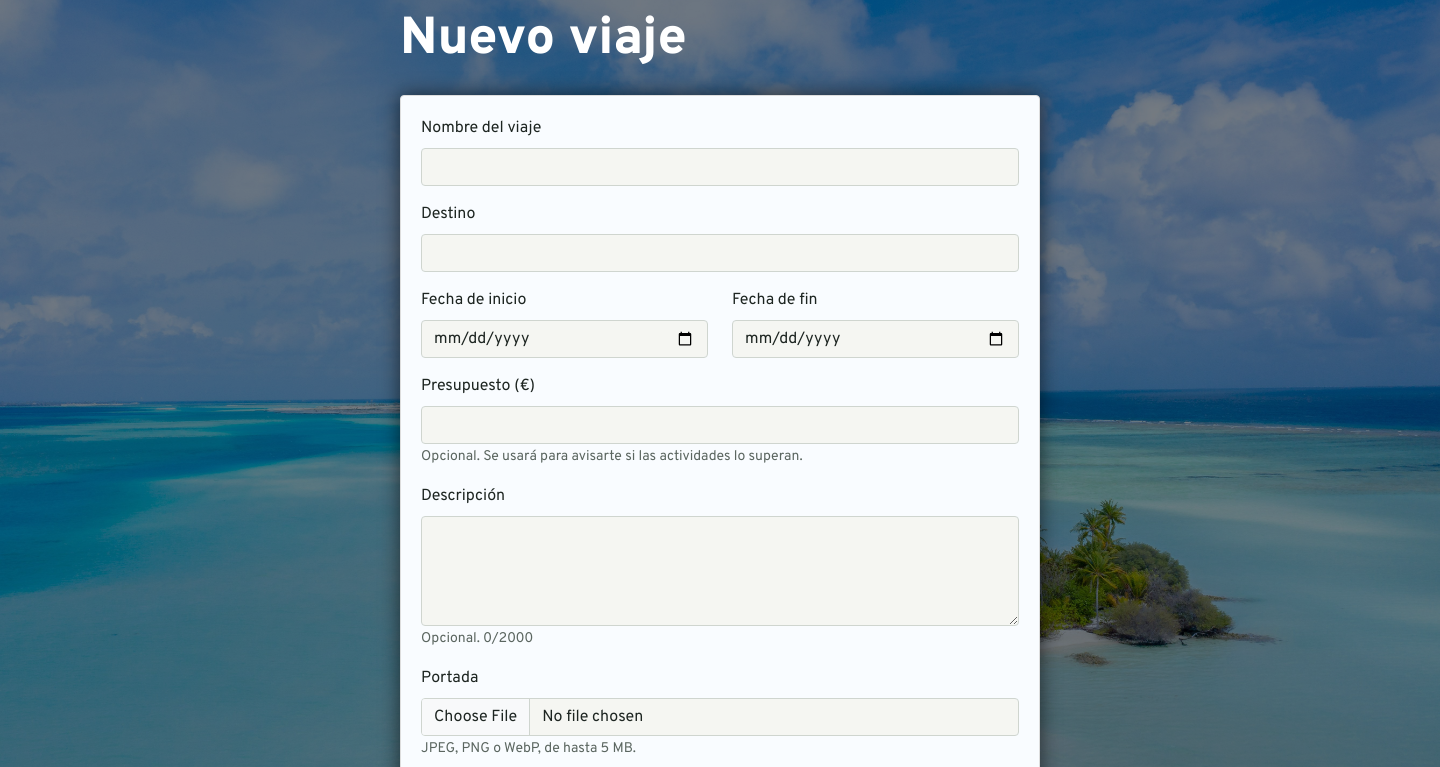
Test: B4 creating a trip › when only the cover fails the trip is kept and its edit page explains it
This screenshot has width=1440, height=767.
In the field labelled "Nombre del viaje": (720, 167) [421,148,1019,186], type "Escapada"
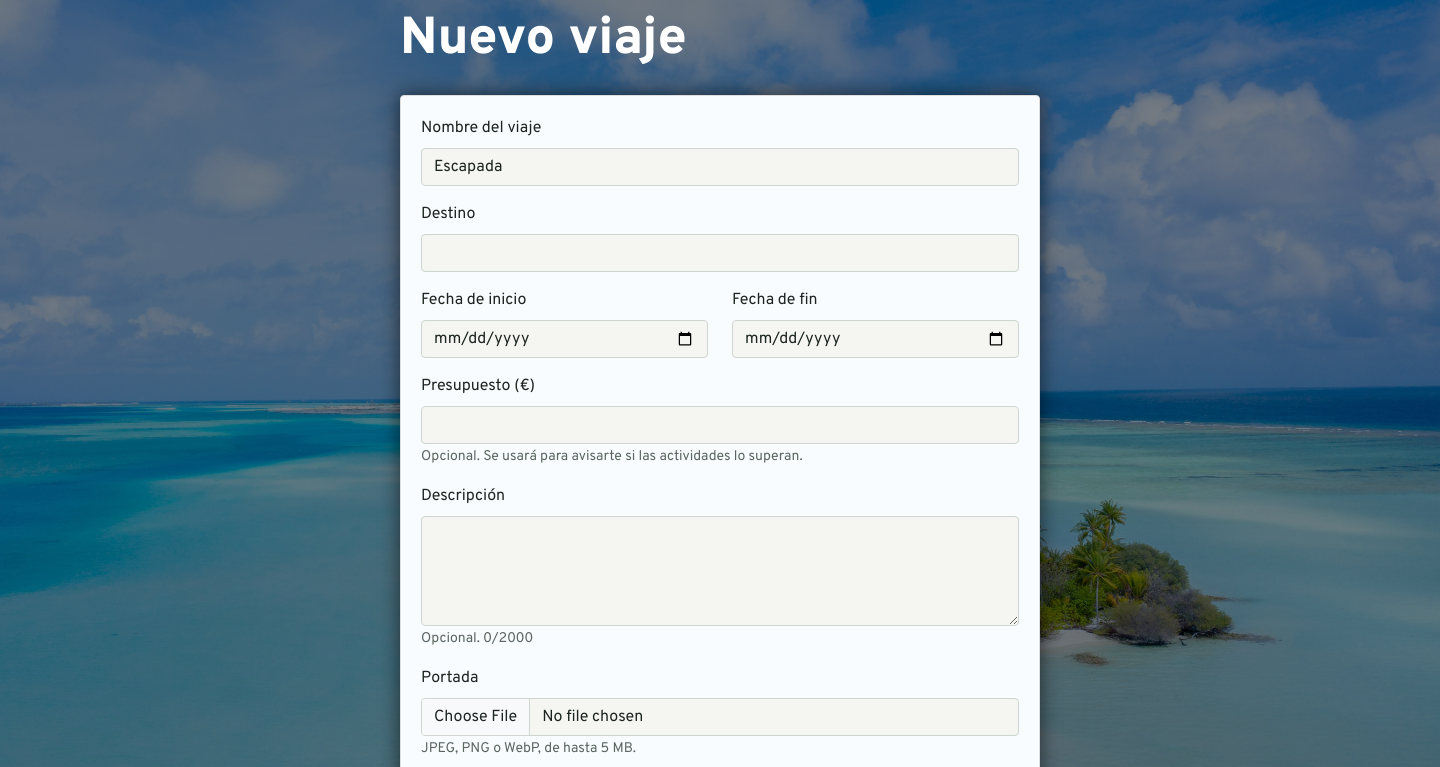
In the field labelled "Destino": (720, 253) [421,234,1019,272], type "Lisboa"
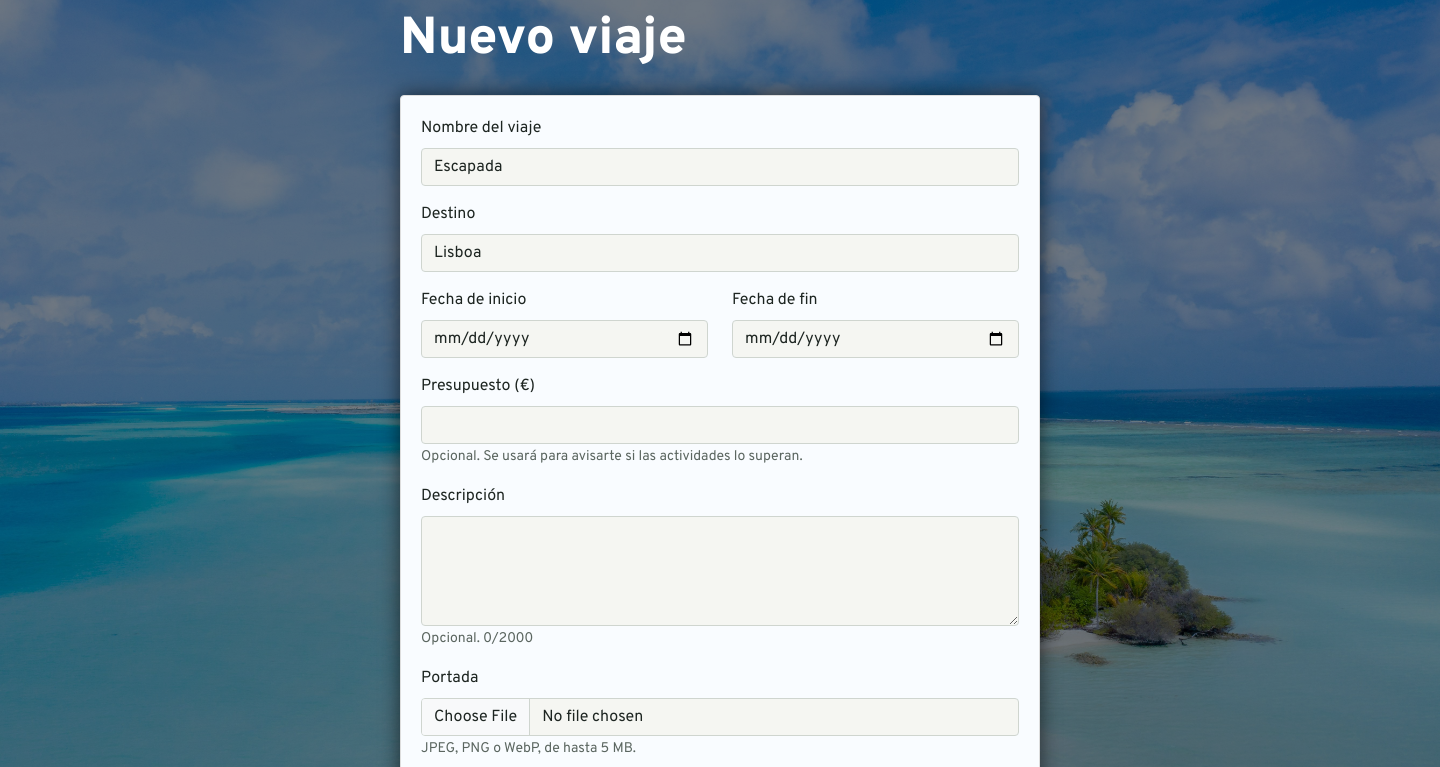
In the date field labelled "Fecha de inicio": (564, 339) [421,320,708,358], type "2027-05-01"
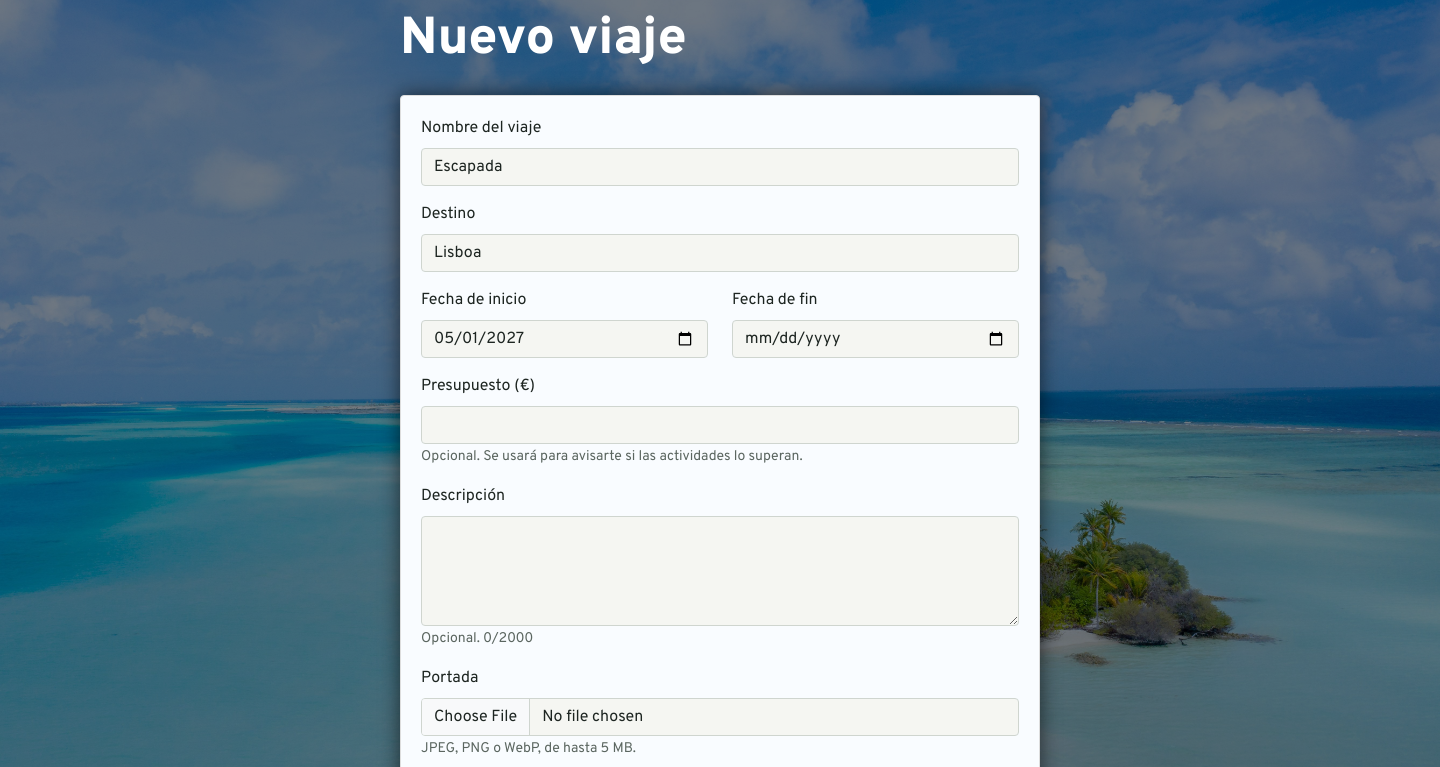
In the date field labelled "Fecha de fin": (876, 339) [732,320,1019,358], type "2027-05-05"
(page scrolled)
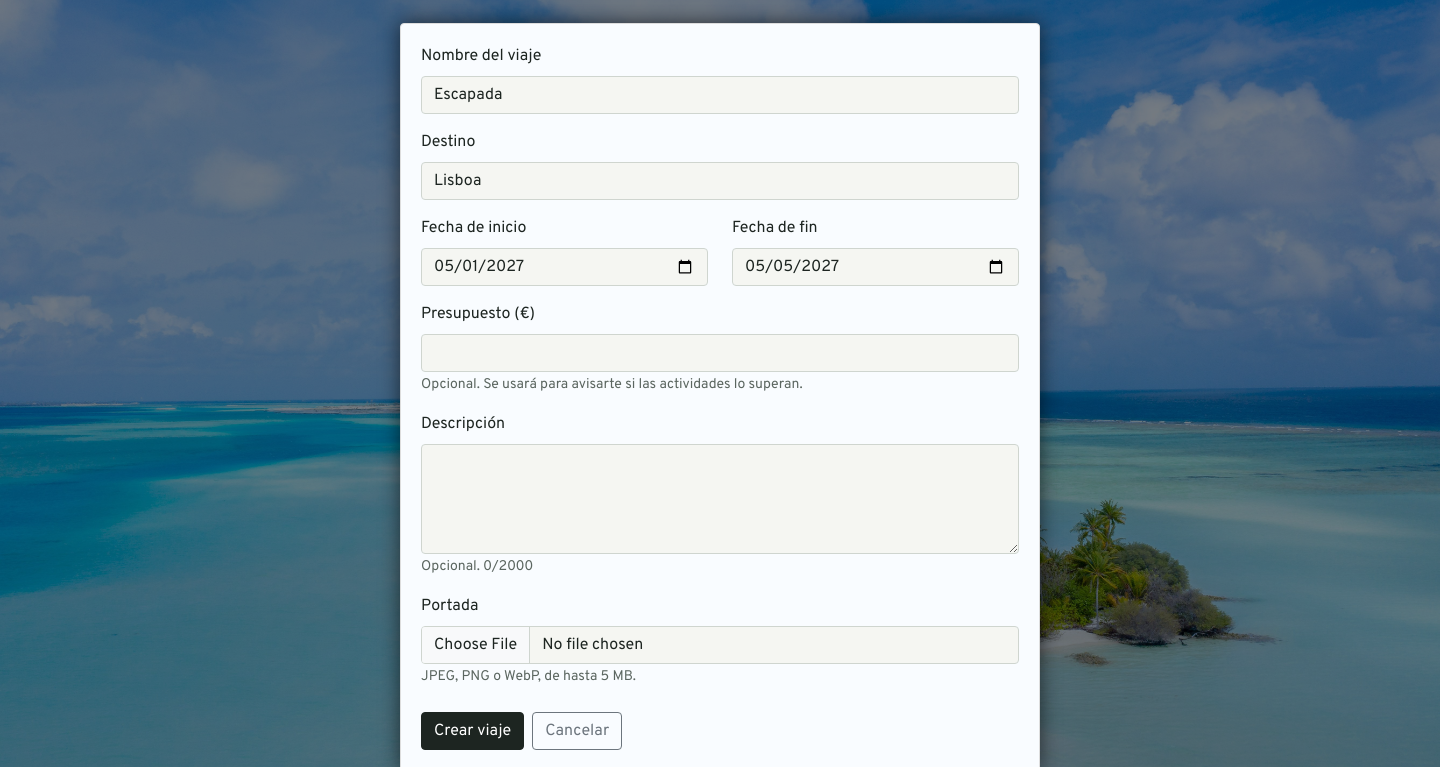
Click the button "Crear viaje": (473, 731) [421,712,524,750]
(page scrolled)
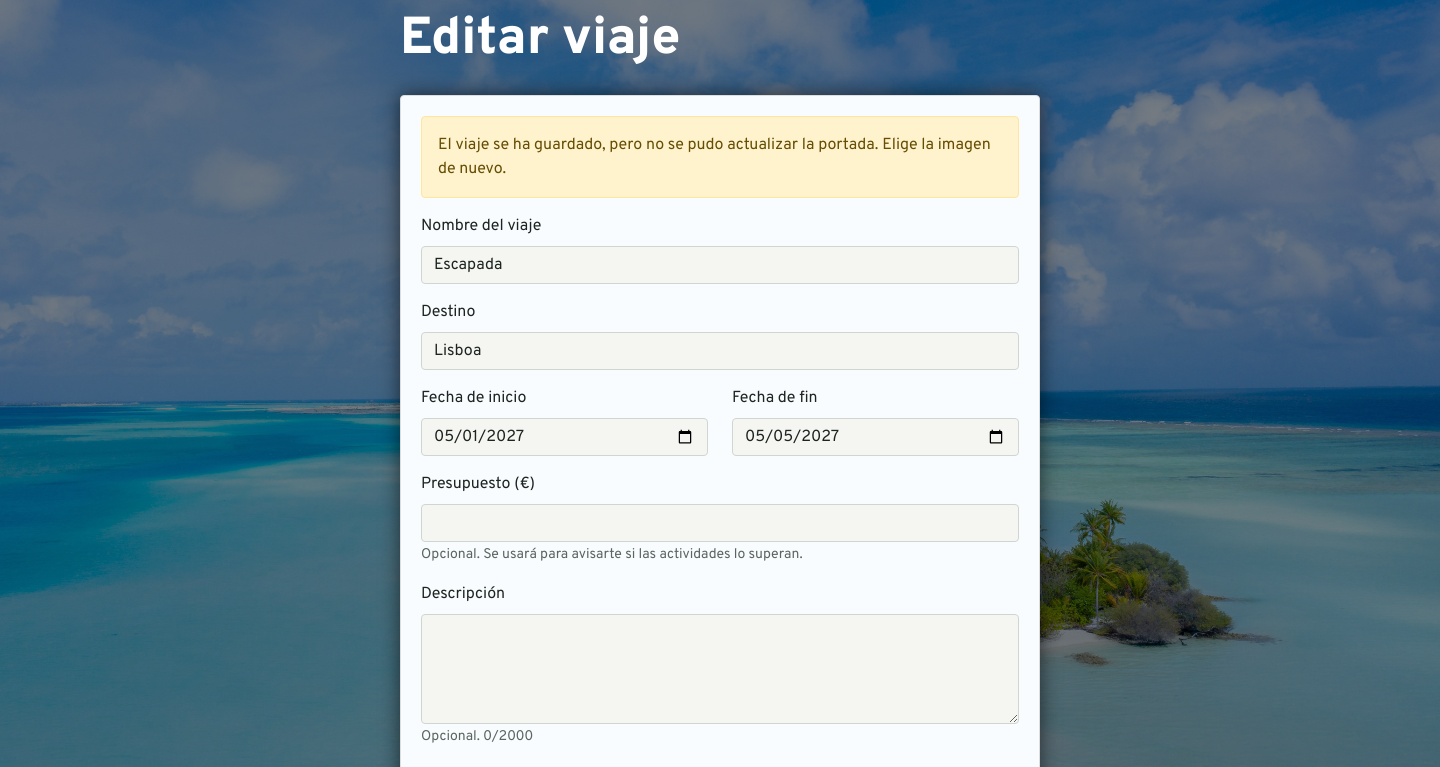
Expected: the text "El viaje se ha guardado, pero no se pudo actualizar la portada" is shown, [438,135,991,179]
Expected: the heading "Editar viaje" is shown, [400,7,680,73]
